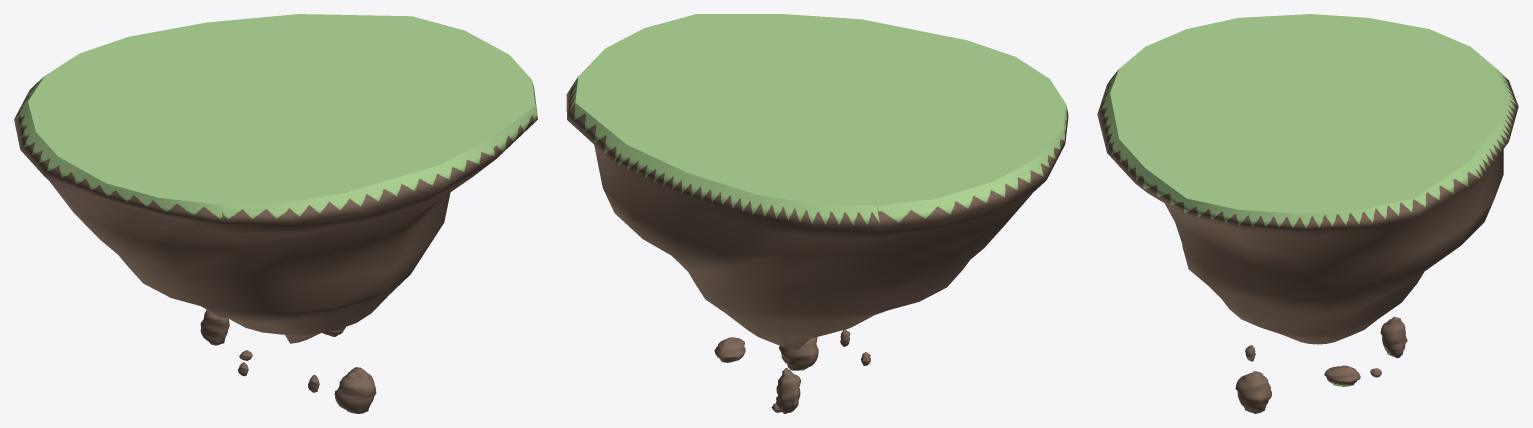
The model's file is island.fbx.
3 views of the same model, side by side, from view 1: azimuth 30°, elevation 25°; view 2: azimuth 150°, elevation 25°; view 3: azimuth 270°, elevation 25° (orthographic). The views are drawn at different scales.
Visible parts, largest first — view 1: pSphere1, pSphere2, pasted__pSphere3; view 2: pSphere1, pasted__pSphere3, pSphere2, pasted__pSphere4; view 3: pSphere1, pSphere2, pasted__pSphere3, pasted__pSphere4.
Boxes of the visible parts, <box> form: pSphere1: <box>14,14,537,343</box>; pSphere2: <box>334,367,376,413</box>; pasted__pSphere3: <box>200,310,229,345</box>; pSphere1: <box>566,14,1068,350</box>; pasted__pSphere3: <box>776,368,801,413</box>; pSphere2: <box>778,337,818,370</box>; pasted__pSphere4: <box>714,337,745,362</box>; pSphere1: <box>1097,14,1518,344</box>; pSphere2: <box>1235,371,1271,413</box>; pasted__pSphere3: <box>1380,316,1407,358</box>; pasted__pSphere4: <box>1324,365,1360,386</box>.
Bounding box in the file's own units: 7.49 × 4.62 × 6.37.
